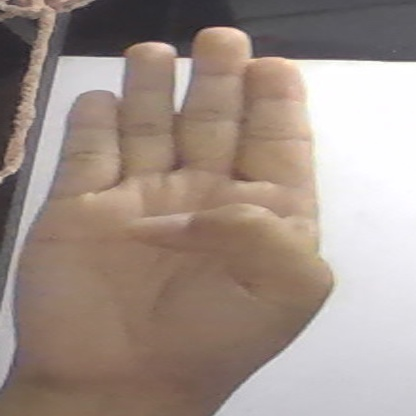B: (9, 28, 333, 392)
